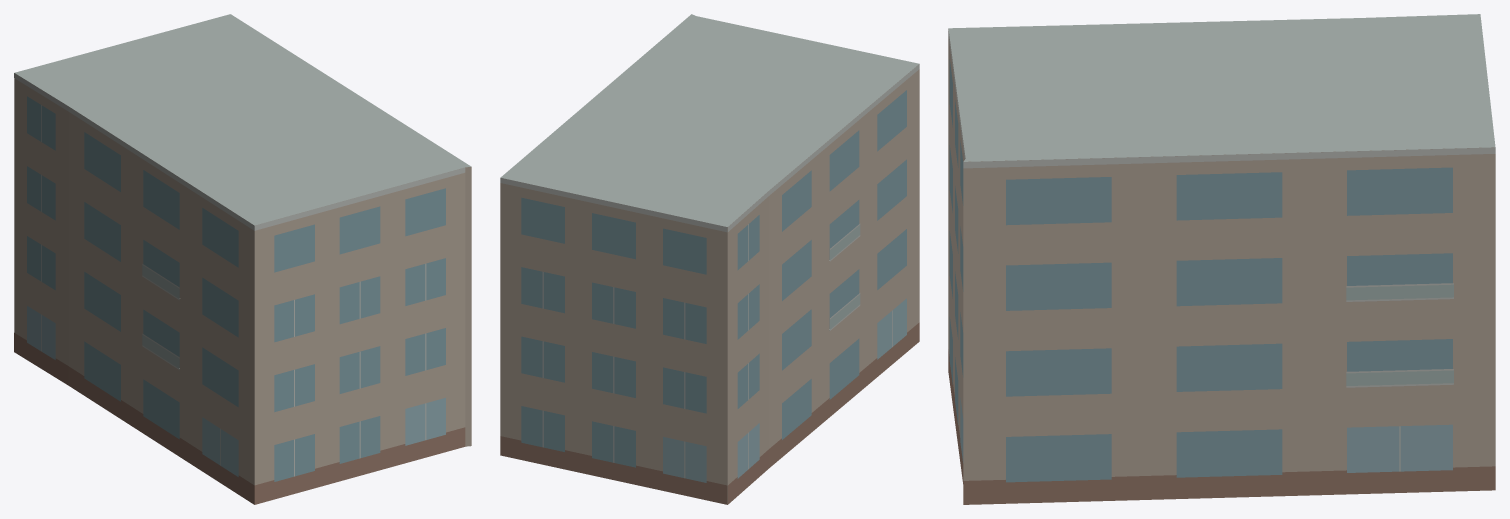
The model's file is survey-upis-32814986.glb.
The picture shows the model from 3 angles, left to right: view 1: azimuth 30°, elevation 25°; view 2: azimuth 150°, elevation 25°; view 3: azimuth 270°, elevation 25°; orthographic projection. The views are drawn at different scales.
Visible parts, largest first — view 1: survey-upis-32814986.tmp; view 2: survey-upis-32814986.tmp; view 3: survey-upis-32814986.tmp.
Part boxes in pixels (x1,y1,x2,y2): survey-upis-32814986.tmp: [14, 14, 471, 504]; survey-upis-32814986.tmp: [500, 14, 919, 504]; survey-upis-32814986.tmp: [948, 14, 1495, 504].
Bounding box in the file's own units: 11.94 × 12.9 × 18.66.
